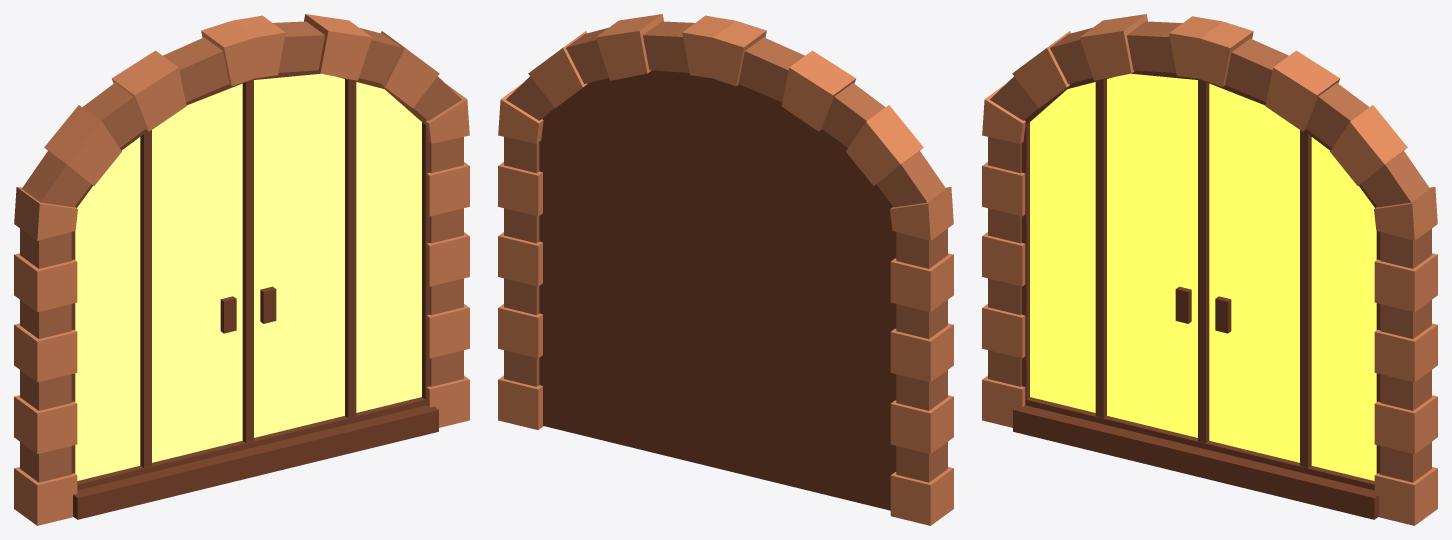
The model's file is village_pack_door_2.glb.
3 views of the same model, side by side, from view 1: azimuth 30°, elevation 25°; view 2: azimuth 150°, elevation 25°; view 3: azimuth 330°, elevation 25° (orthographic).
Visible parts, largest first — view 1: door 2_brick 1_0; view 2: door 2_brick 1_0; view 3: door 2_brick 1_0.
Part boxes in pixels (bbox=[...]): door 2_brick 1_0: bbox=[14, 14, 469, 525]; door 2_brick 1_0: bbox=[498, 14, 953, 525]; door 2_brick 1_0: bbox=[982, 14, 1437, 525].
Bounding box in the file's own units: 2.68 × 2.58 × 0.3001.
